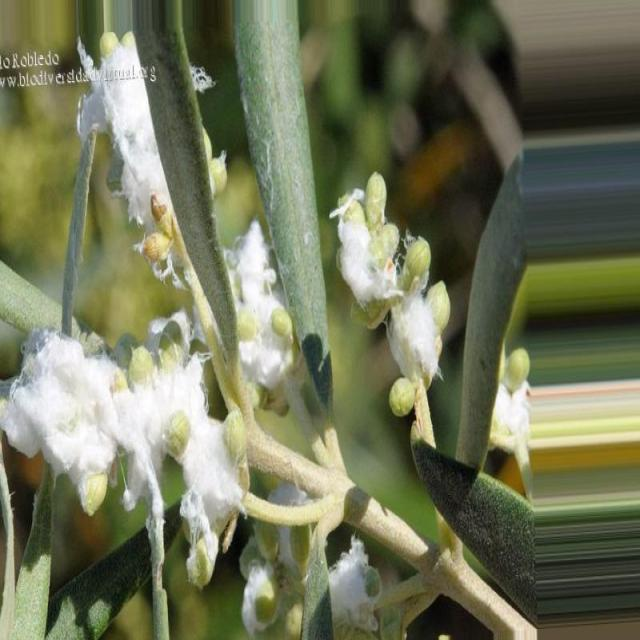Psyllid: (0, 330, 246, 585), (329, 172, 452, 419), (77, 31, 172, 234), (240, 522, 309, 639)
